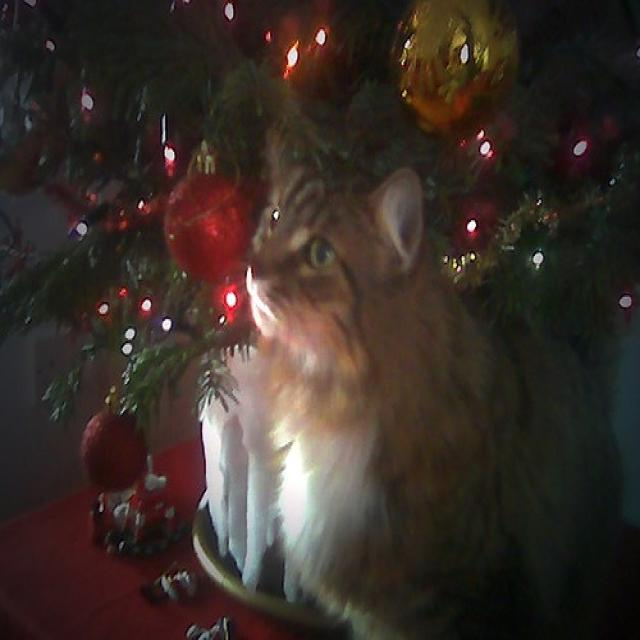cat: (200, 152, 620, 633)
